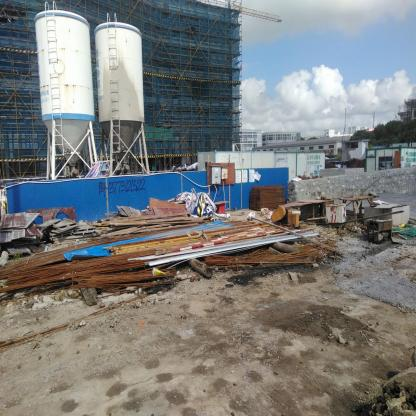rebar: (0, 228, 181, 295), (0, 290, 153, 353), (202, 234, 337, 267), (249, 184, 287, 210)
